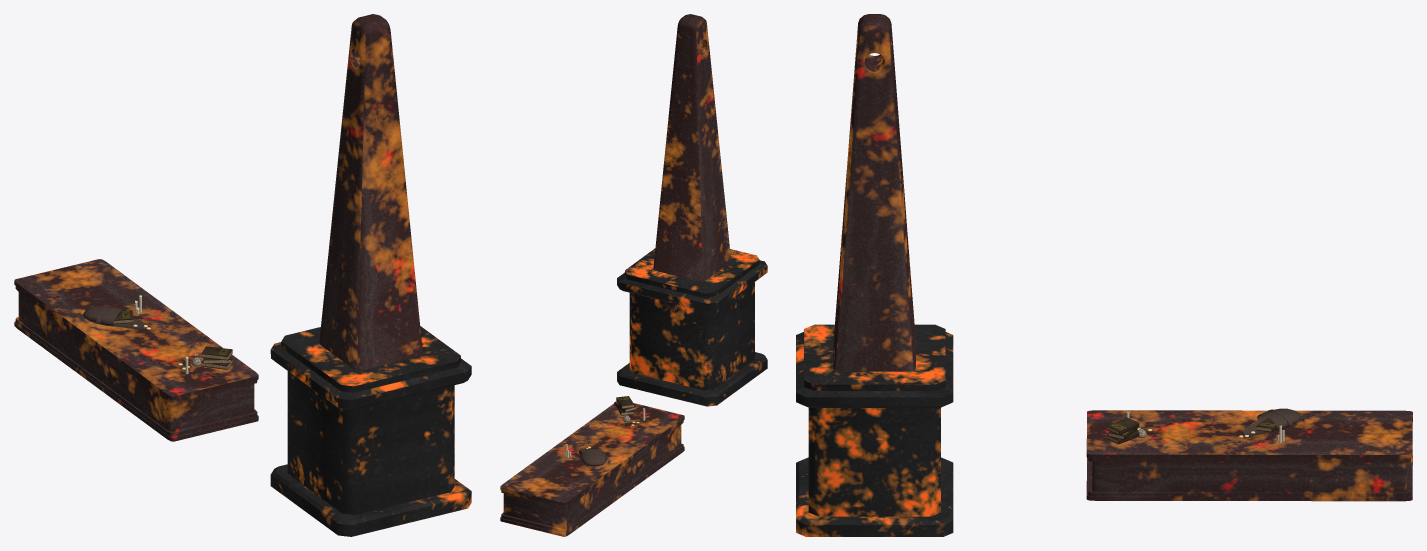
File: L3_osob.fbx
3 renders of one model, left to right at view 1: azimuth 30°, elevation 25°; view 2: azimuth 150°, elevation 25°; view 3: azimuth 270°, elevation 25°, orthographic. The views are drawn at different scales.
Visible parts, largest first — view 1: Obelisk, Crypt.004; view 2: Obelisk, Crypt.004; view 3: Obelisk, Crypt.004.
Boxes of the visible parts, x1,y1,x2,y2 form: Obelisk: (270, 14, 471, 536); Crypt.004: (14, 259, 258, 441); Obelisk: (617, 14, 767, 406); Crypt.004: (500, 396, 684, 536); Obelisk: (796, 14, 953, 536); Crypt.004: (1086, 408, 1412, 501).
Bounding box in the file's own units: 81.4 × 228 × 262.
1 material, 1 textured.
